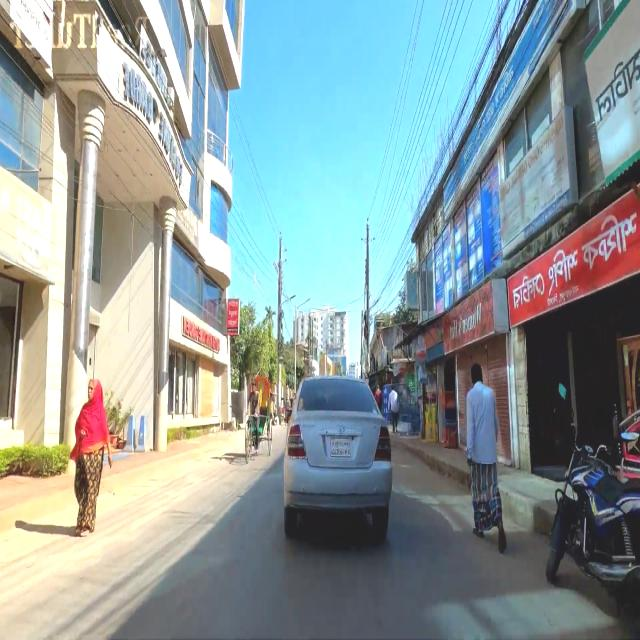white: (282, 370, 394, 548)
